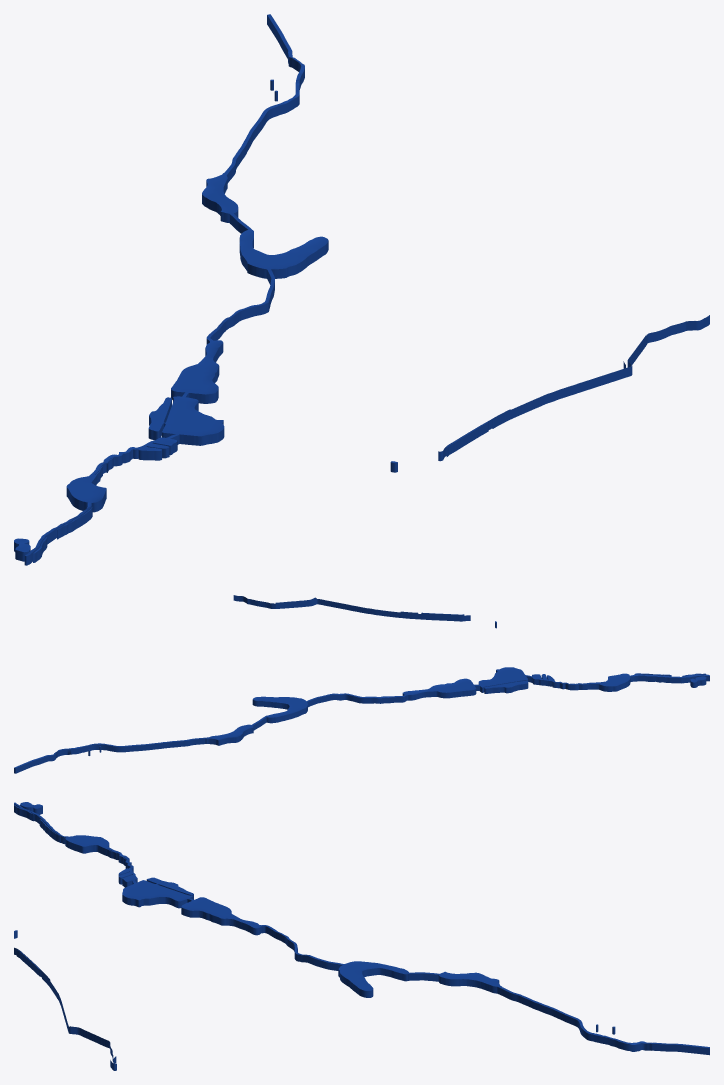
The model's file is water_BROKEN.glb.
The picture shows the model from 3 angles, top to bottom: view 1: azimuth 30°, elevation 25°; view 2: azimuth 150°, elevation 25°; view 3: azimuth 270°, elevation 25°; orthographic projection. The views are drawn at different scales.
Parts seen in each view (by area): view 1: extrudeSide, extrudeFront; view 2: extrudeSide, extrudeFront; view 3: extrudeSide, extrudeFront.
Part boxes in pixels (bbox=[...]): extrudeSide: bbox=[14, 15, 709, 565]; extrudeFront: bbox=[14, 14, 488, 555]; extrudeSide: bbox=[14, 595, 709, 773]; extrudeFront: bbox=[14, 612, 709, 768]; extrudeSide: bbox=[14, 804, 709, 1070]; extrudeFront: bbox=[14, 802, 709, 1048].
Size of the model in its own units: 1816 by 56.63 by 1999.
